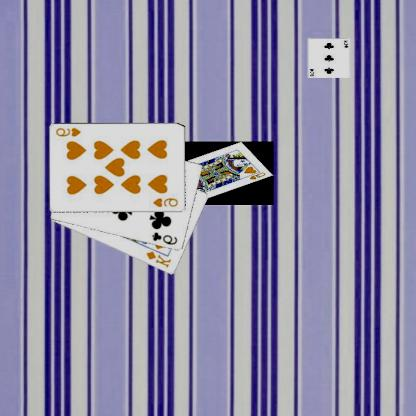6C: (151, 230, 180, 246)
9H: (152, 196, 181, 209), (55, 125, 84, 138)
KD: (145, 249, 174, 269)
